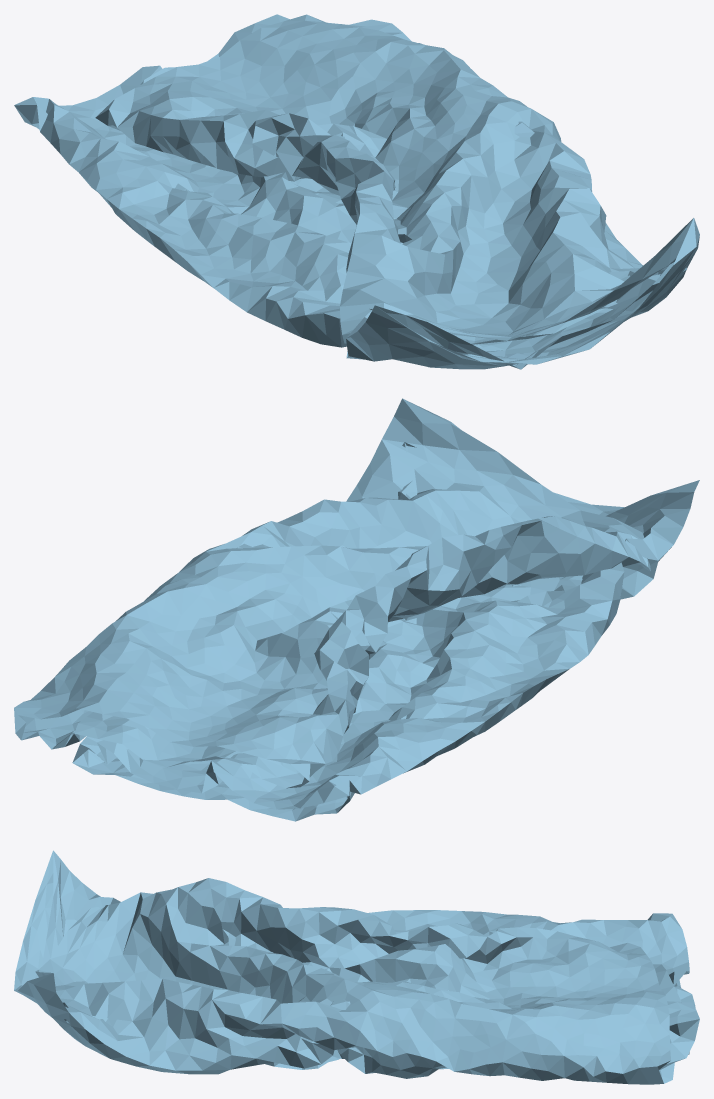
Rendered from frame_02.glb.
The picture shows the model from 3 angles, top to bottom: view 1: azimuth 30°, elevation 25°; view 2: azimuth 150°, elevation 25°; view 3: azimuth 270°, elevation 25°; orthographic projection. The views are drawn at different scales.
Parts seen in each view (by area): view 1: frame_02.obj; view 2: frame_02.obj; view 3: frame_02.obj.
Boxes of the visible parts, <box> form: frame_02.obj: <box>14,14,699,369</box>; frame_02.obj: <box>14,398,699,821</box>; frame_02.obj: <box>14,850,699,1084</box>.
Size of the model in its own units: 0.9705 by 0.2923 by 1.75.
